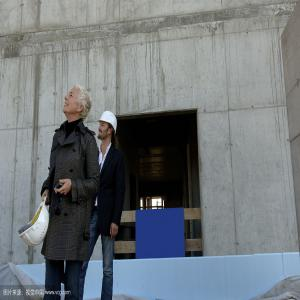none: (63, 86, 92, 124)
white: (98, 113, 118, 144)
